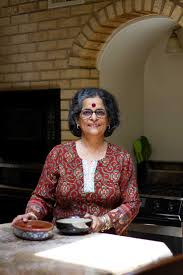indian_female: (64, 84, 128, 143)
